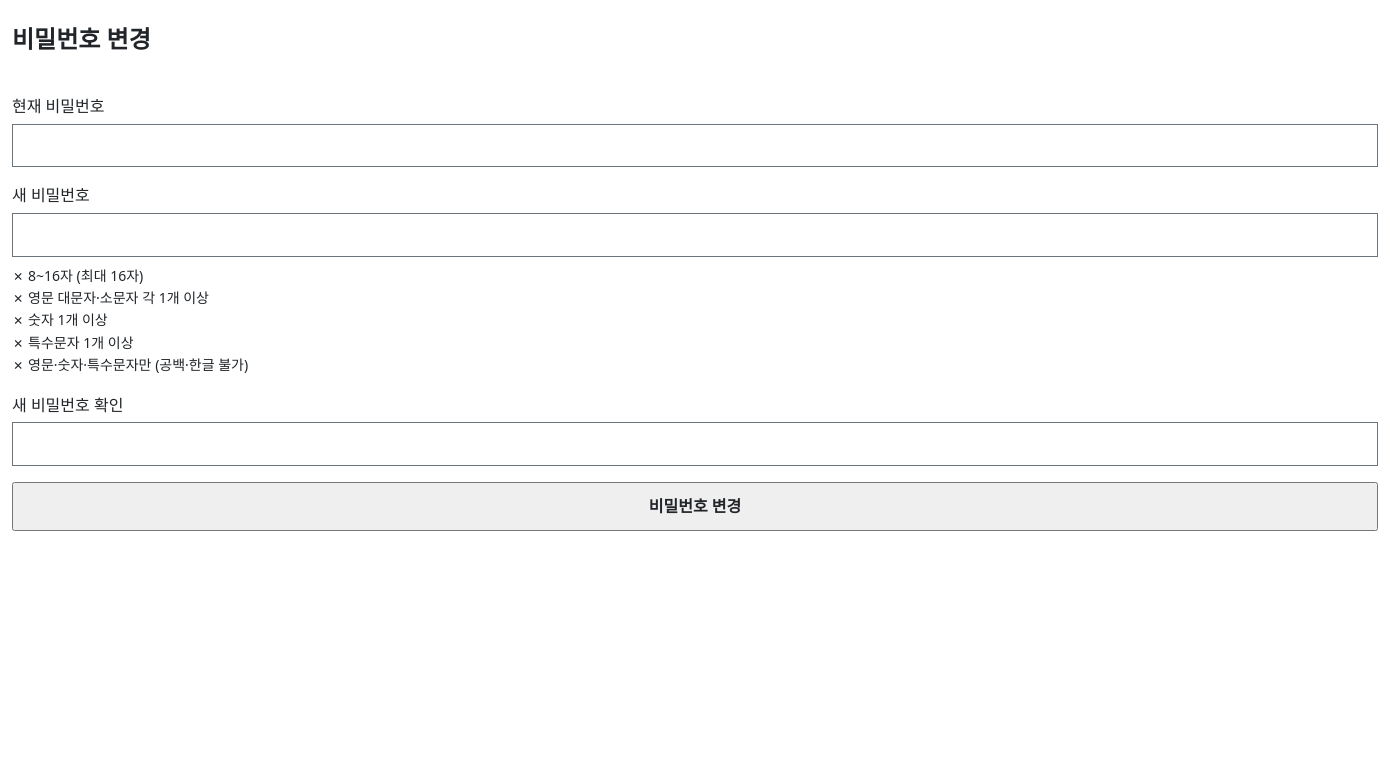
PasswordChangeForm › 성공하면 다른 기기 로그아웃 안내
Type "Blog#2026a" into the password field labelled "현재 비밀번호".
click(695, 146); type("Blog#2026a")  # box [12,124,1378,167]
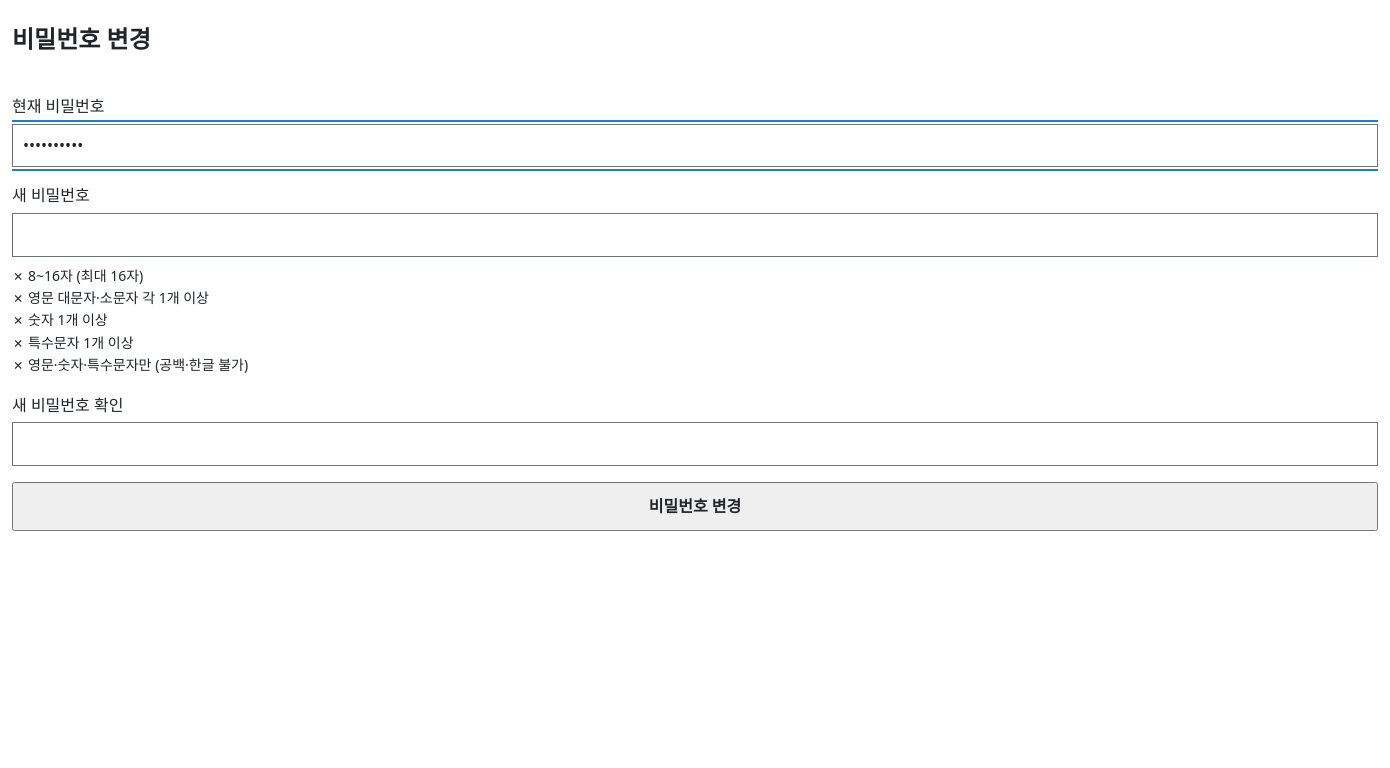
Type "Fresh#2026b" into the password field labelled "새 비밀번호".
click(695, 235); type("Fresh#2026b")  # box [12,213,1378,257]
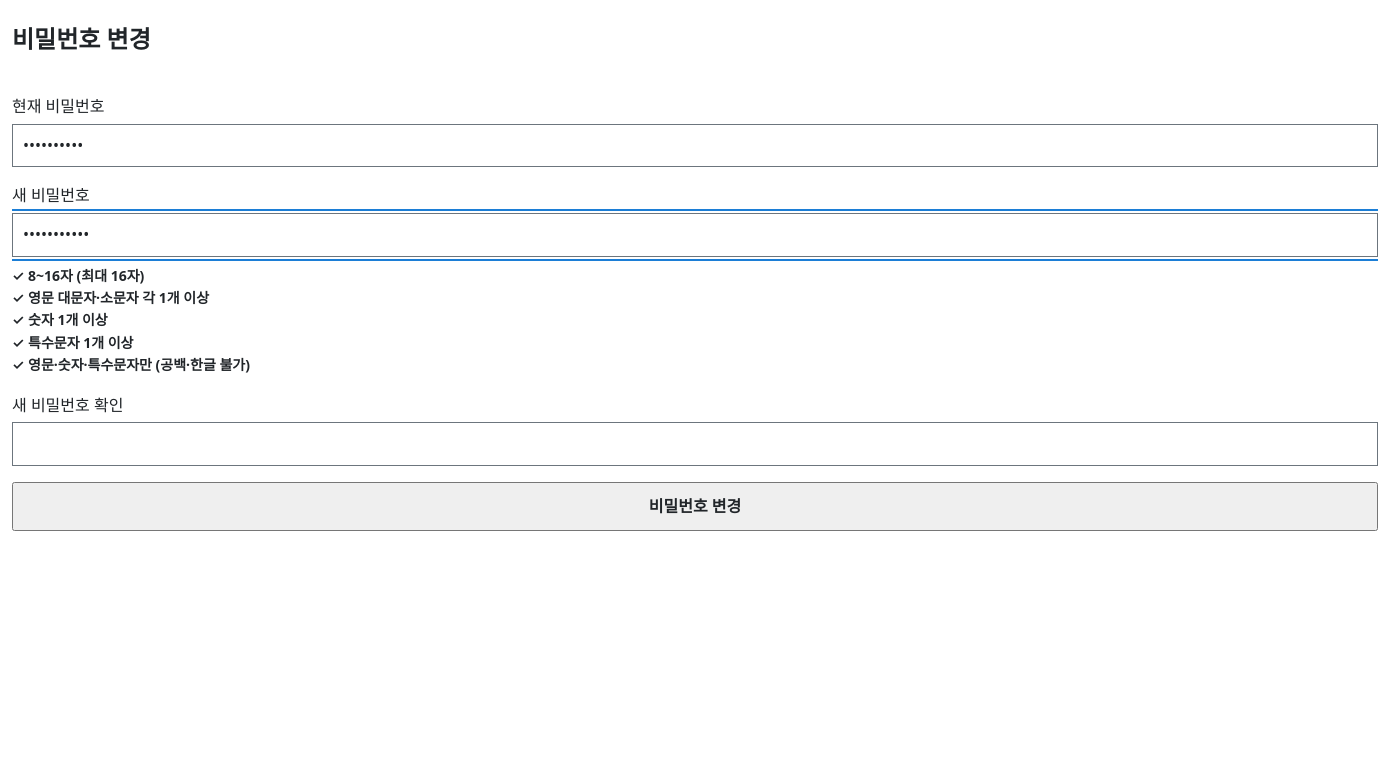
Type "Fresh#2026b" into the password field labelled "새 비밀번호 확인".
click(695, 444); type("Fresh#2026b")  # box [12,422,1378,466]
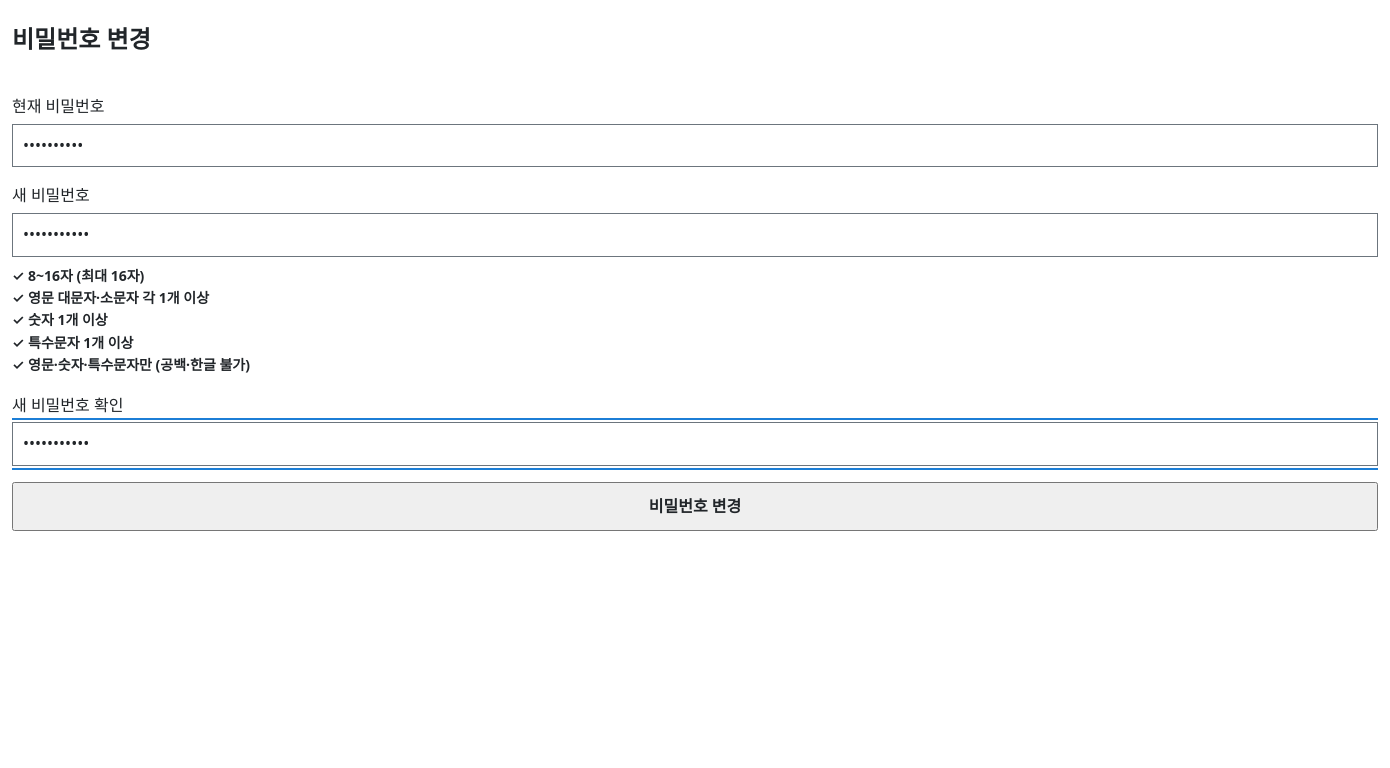
Click the button "비밀번호 변경".
click(695, 506)  # box [12,482,1378,531]
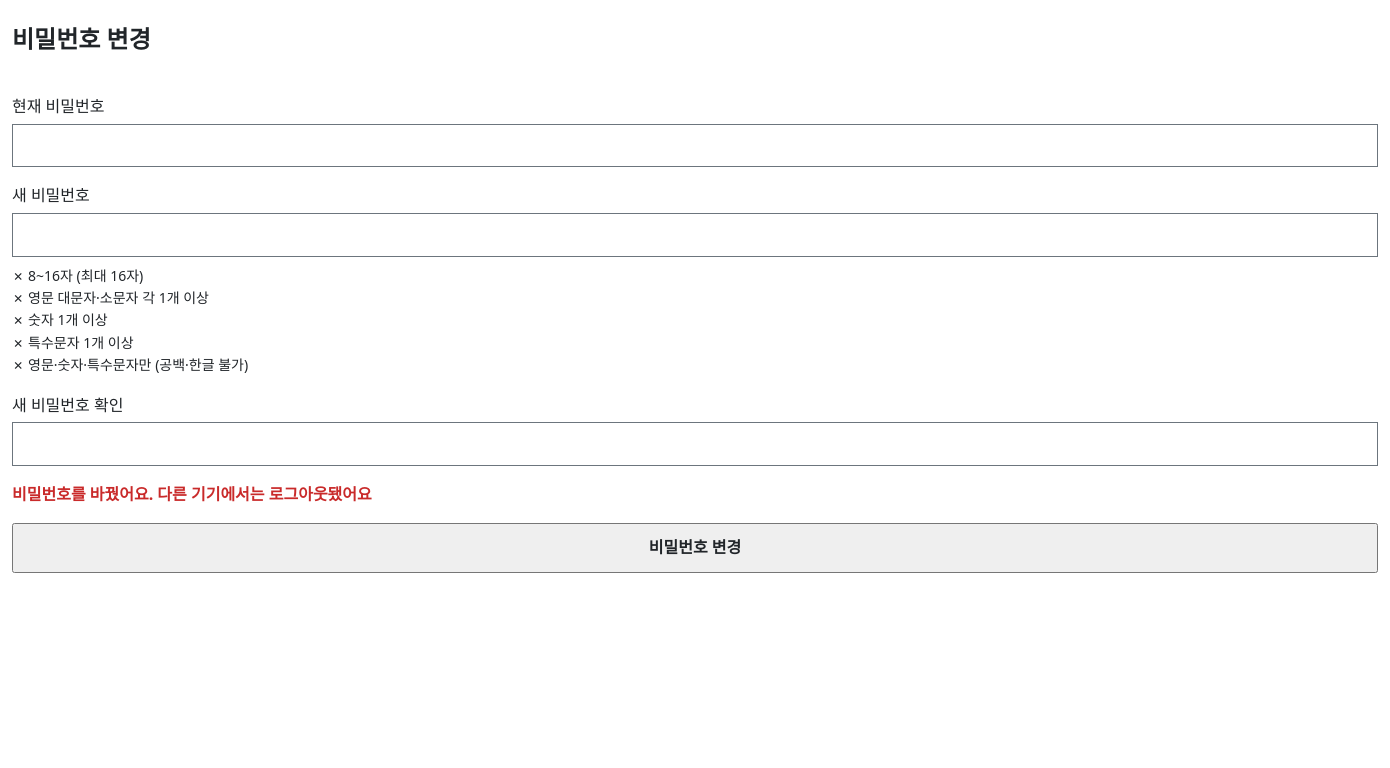
Expected: the message shows "다른 기기에서는 로그아웃됐어요", [12,483,372,505]
